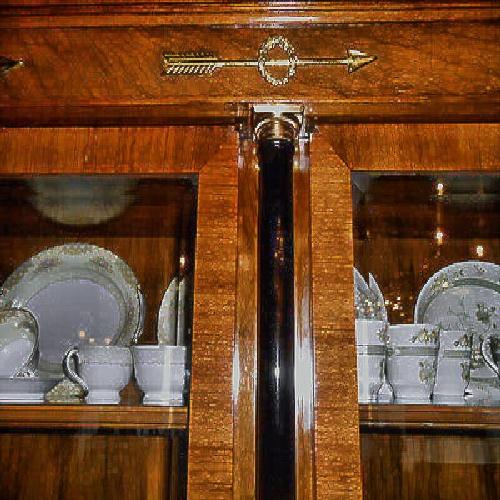cabinet: (28, 32, 482, 484)
